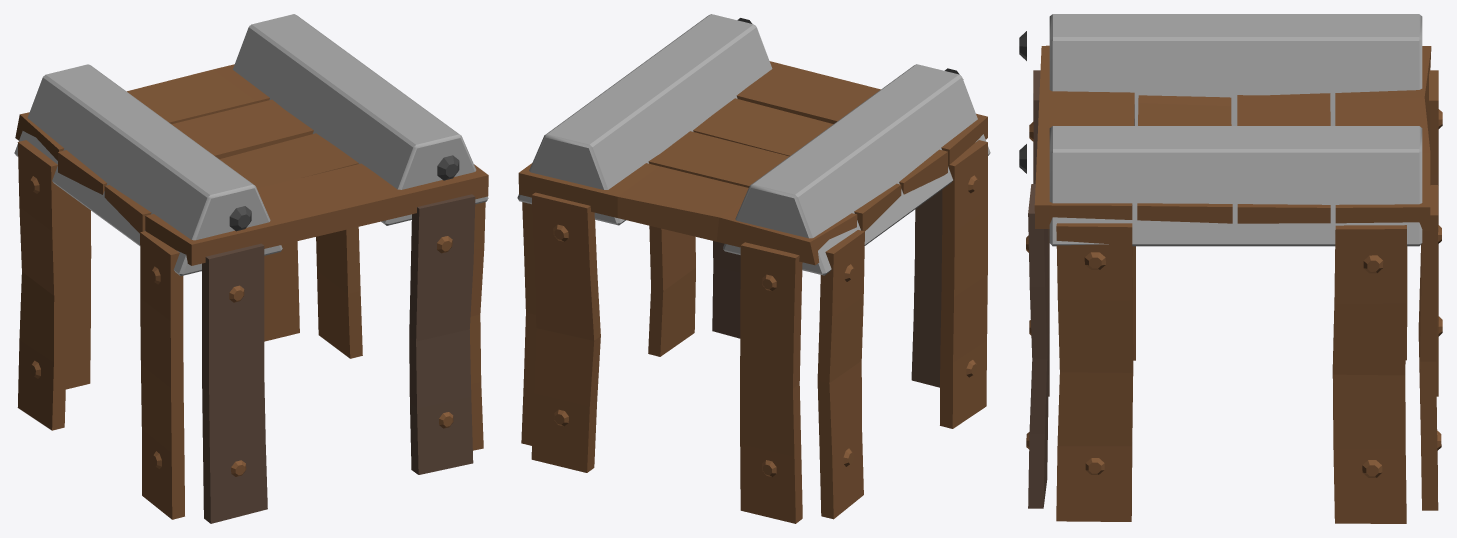
File: BoxDecoration 1.fbx
The picture shows the model from 3 angles, left to right: view 1: azimuth 30°, elevation 25°; view 2: azimuth 150°, elevation 25°; view 3: azimuth 270°, elevation 25°; orthographic projection. The views are drawn at different scales.
Parts seen in each view (by area): view 1: pasted__pCube1, pasted__pasted__pCube1, pasted__polySurface32, pasted__polySurface31, pasted__polySurface10, pasted__polySurface14, pasted__polySurface13, pasted__polySurface9, pasted__polySurface11, pasted__polySurface25, pasted__polySurface12, pasted__polySurface19 (+2 smaller); view 2: pasted__pCube1, pasted__pasted__pCube1, pasted__polySurface20, pasted__polySurface19, pasted__polySurface13, pasted__polySurface11, pasted__polySurface14, pasted__polySurface10, pasted__polySurface12, pasted__polySurface26, pasted__polySurface9, pasted__polySurface32 (+2 smaller); view 3: pasted__pasted__pCube1, pasted__pCube1, pasted__polySurface26, pasted__polySurface25, pasted__polySurface10, pasted__polySurface11, pasted__polySurface31, pasted__polySurface20, pasted__polySurface9, pasted__polySurface12, pasted__polySurface19, pasted__polySurface32.
Boxes of the visible parts, x1=… form: pasted__pCube1: x1=14, y1=64, x2=282, y2=275; pasted__pasted__pCube1: x1=233, y1=14, x2=488, y2=225; pasted__polySurface32: x1=202, y1=243, x2=267, y2=523; pasted__polySurface31: x1=409, y1=194, x2=475, y2=474; pasted__polySurface10: x1=145, y1=163, x2=488, y2=265; pasted__polySurface14: x1=17, y1=140, x2=66, y2=430; pasted__polySurface13: x1=140, y1=231, x2=184, y2=519; pasted__polySurface9: x1=58, y1=99, x2=313, y2=194; pasted__polySurface11: x1=15, y1=64, x2=269, y2=160; pasted__polySurface25: x1=316, y1=227, x2=362, y2=358; pasted__polySurface12: x1=104, y1=133, x2=358, y2=233; pasted__polySurface19: x1=64, y1=191, x2=91, y2=389; pasted__pCube1: x1=723, y1=64, x2=990, y2=275; pasted__pasted__pCube1: x1=517, y1=14, x2=772, y2=225; pasted__polySurface20: x1=531, y1=192, x2=600, y2=472; pasted__polySurface19: x1=740, y1=242, x2=802, y2=523; pasted__polySurface13: x1=940, y1=140, x2=987, y2=428; pasted__polySurface11: x1=518, y1=163, x2=857, y2=265; pasted__polySurface14: x1=817, y1=230, x2=864, y2=519; pasted__polySurface10: x1=736, y1=61, x2=987, y2=164; pasted__polySurface12: x1=693, y1=98, x2=947, y2=194; pasted__polySurface26: x1=648, y1=225, x2=695, y2=356; pasted__polySurface9: x1=648, y1=131, x2=901, y2=231; pasted__polySurface32: x1=911, y1=190, x2=942, y2=387; pasted__pasted__pCube1: x1=1049, y1=126, x2=1422, y2=246; pasted__pCube1: x1=1049, y1=14, x2=1422, y2=125; pasted__polySurface26: x1=1056, y1=223, x2=1133, y2=521; pasted__polySurface25: x1=1332, y1=225, x2=1406, y2=523; pasted__polySurface10: x1=1034, y1=45, x2=1134, y2=228; pasted__polySurface11: x1=1335, y1=46, x2=1431, y2=230; pasted__polySurface31: x1=1028, y1=184, x2=1049, y2=508; pasted__polySurface20: x1=1418, y1=185, x2=1438, y2=510; pasted__polySurface9: x1=1237, y1=93, x2=1330, y2=223; pasted__polySurface12: x1=1137, y1=95, x2=1232, y2=223; pasted__polySurface19: x1=1429, y1=70, x2=1438, y2=396; pasted__polySurface32: x1=1033, y1=70, x2=1049, y2=396.
Bounding box in the file's own units: 0.6418 × 0.6174 × 0.662.
